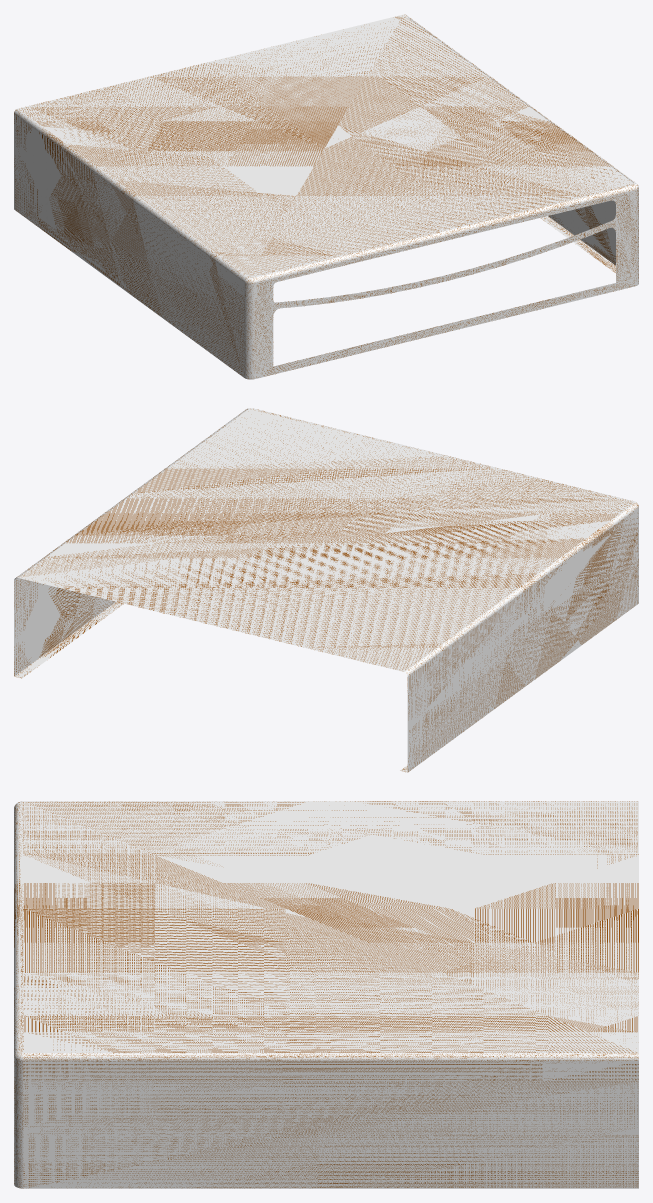
Rendered from original-2.obj.
3 renders of one model, top to bottom at view 1: azimuth 30°, elevation 25°; view 2: azimuth 150°, elevation 25°; view 3: azimuth 270°, elevation 25°, orthographic. The views are drawn at different scales.
Visible parts, largest first — view 1: #ID314; view 2: #ID314; view 3: #ID314.
Part boxes in pixels (bbox=[...]): #ID314: bbox=[14, 14, 638, 379]; #ID314: bbox=[14, 408, 638, 772]; #ID314: bbox=[14, 801, 638, 1188].
Bounding box in the file's own units: 1.03 × 0.2489 × 1.06.
